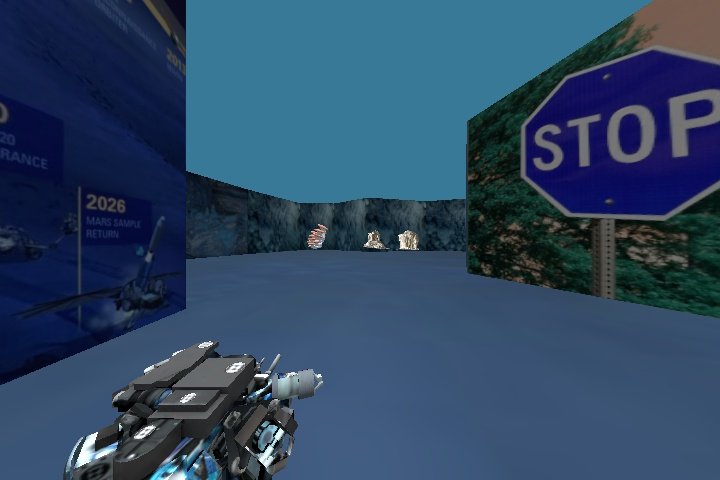formation: (365, 227, 421, 256)
mushrooms: (303, 220, 327, 252)
stop_sign: (499, 45, 720, 217)
